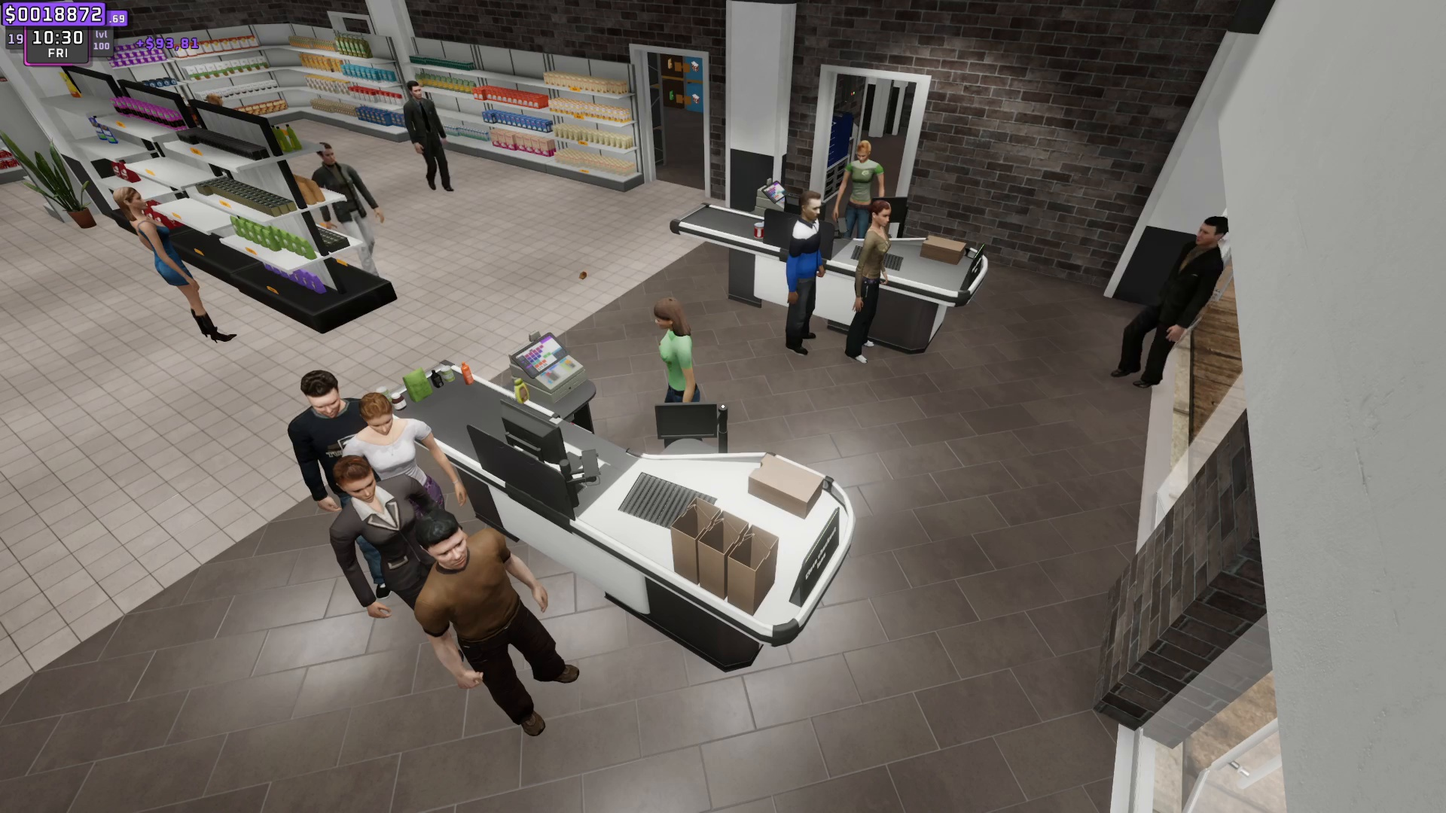Client: (422, 517, 585, 742), (331, 459, 461, 635), (340, 394, 464, 527), (296, 375, 380, 530), (852, 199, 894, 369), (779, 179, 820, 352)
Employee: (645, 297, 703, 401), (844, 139, 883, 239)
